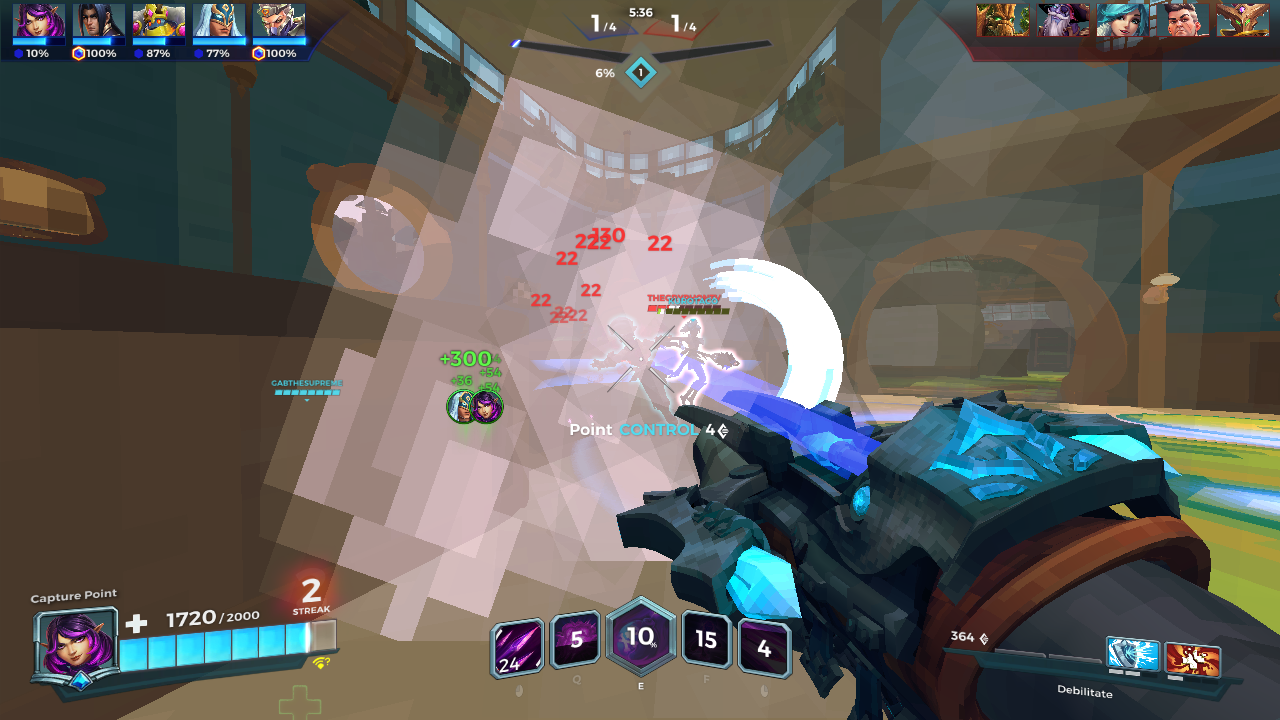model: (668, 318, 721, 402)
